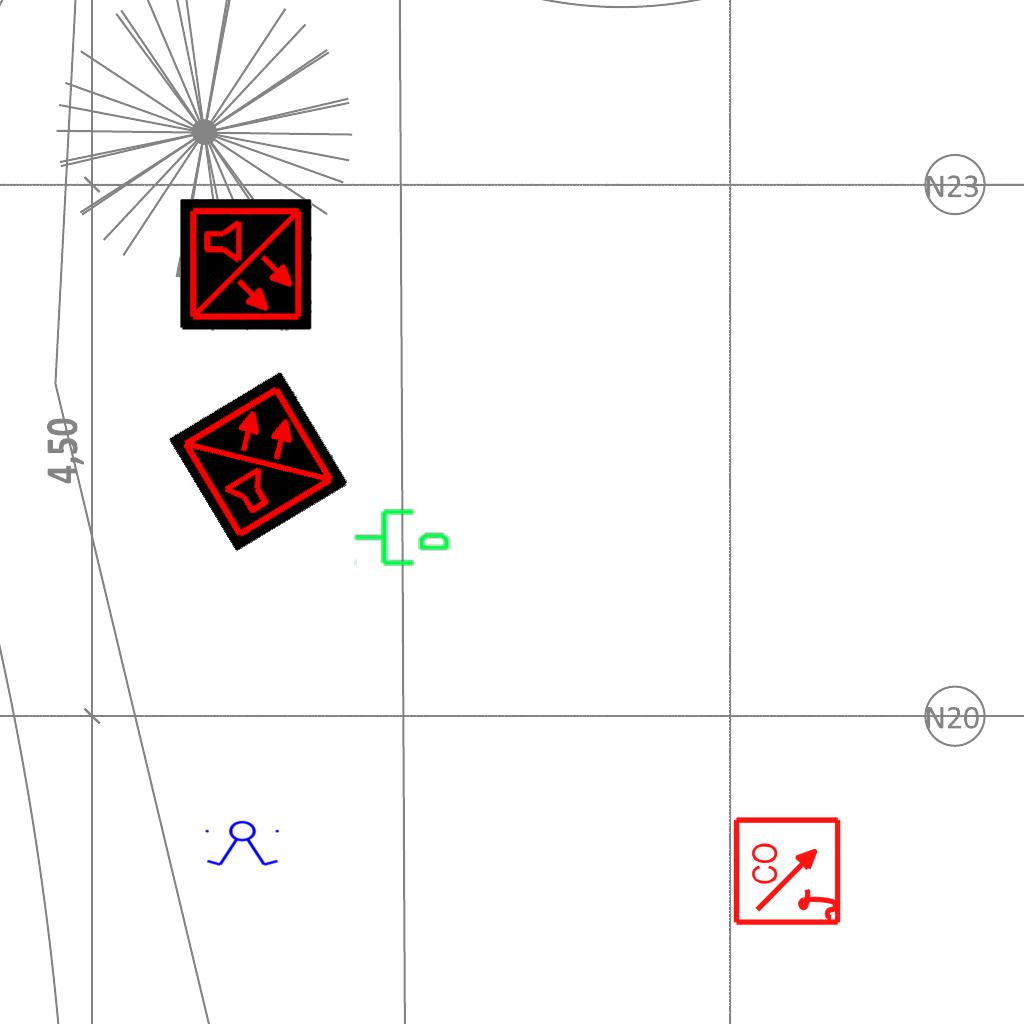Datenanschluss_einfach: (352, 501, 452, 570)
OKW_Multisensormelder_(Kombination_optischer_Rauch-Kahlenmonoxid_Waerme-Melder): (168, 370, 350, 552), (180, 199, 312, 331)
ROA_Rauchmelder_optisch_mit_Signalgeber_(Sockelsirene): (732, 814, 845, 927)
Serienschalter: (201, 820, 285, 868)
